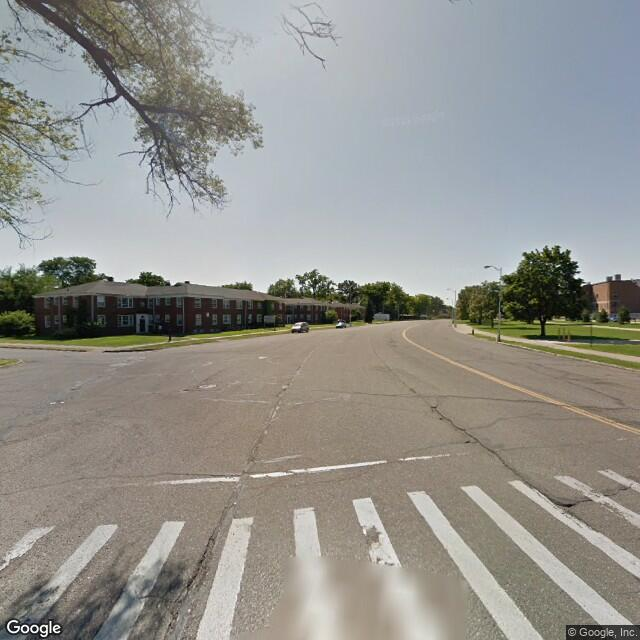litter: (48, 398, 56, 408), (58, 400, 65, 405)
